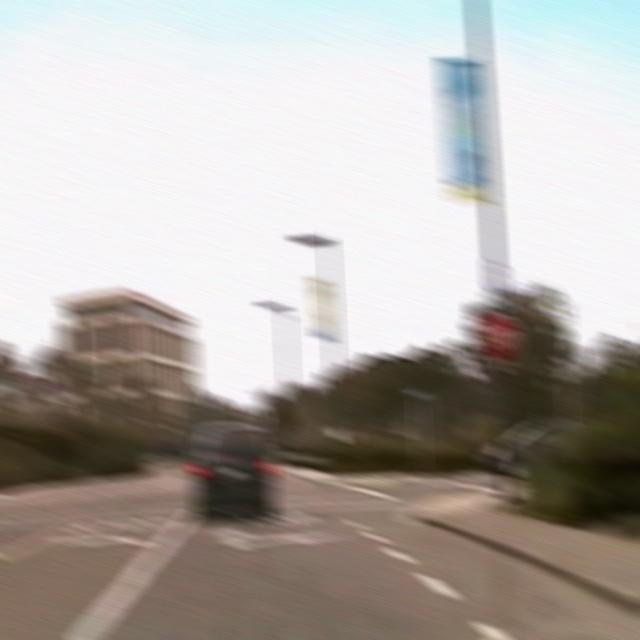stop: (477, 311, 521, 364)
